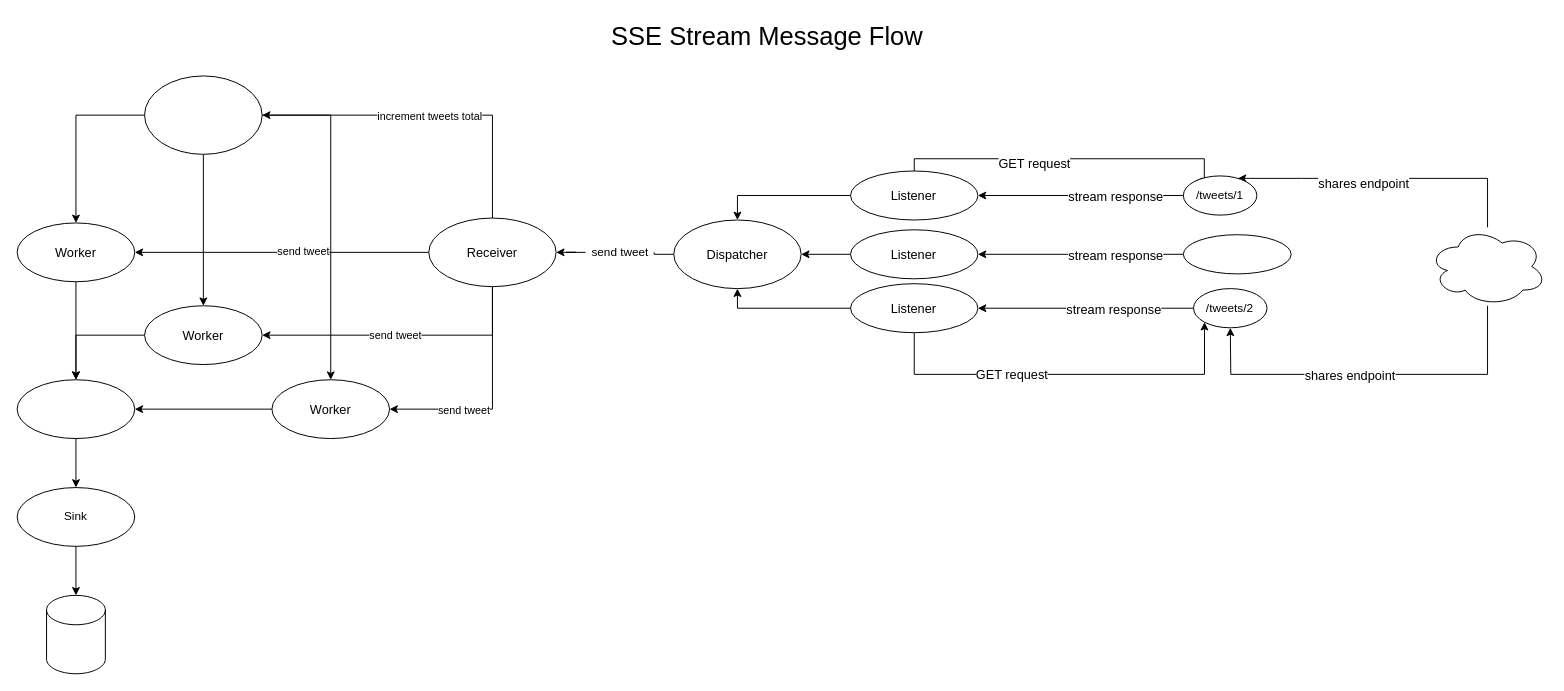
This 1564x691 diagram has some shape labels left out. The shapes that lost their labels are listed below. From the top down, each one's box as (x1, y1, x2, y2) in pixels, then its label:
(144, 75, 262, 154): Scaler
(1182, 234, 1291, 274): /emotion_values
(1428, 226, 1546, 306): SSE Server
(16, 379, 135, 439): Aggregator
(46, 594, 105, 674): DataBase
